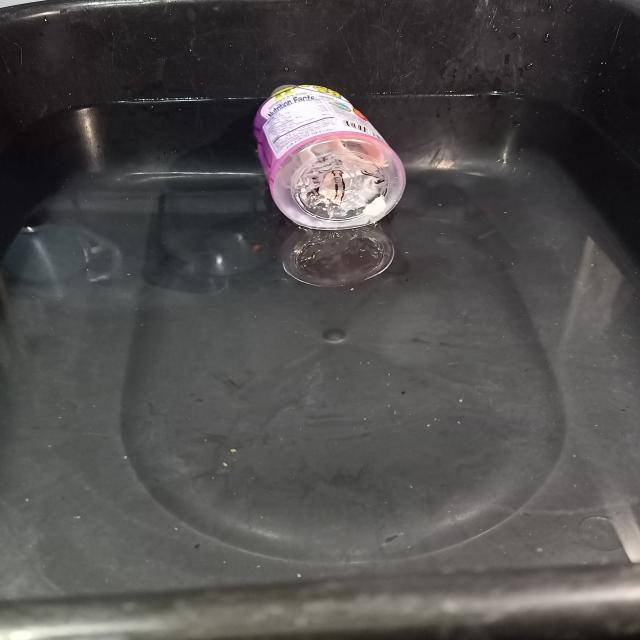Plastic Bottle: (254, 85, 406, 231)
